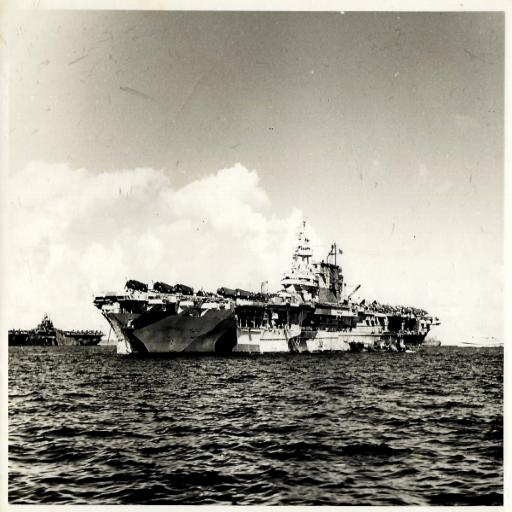Portanaves: (89, 215, 442, 364)
